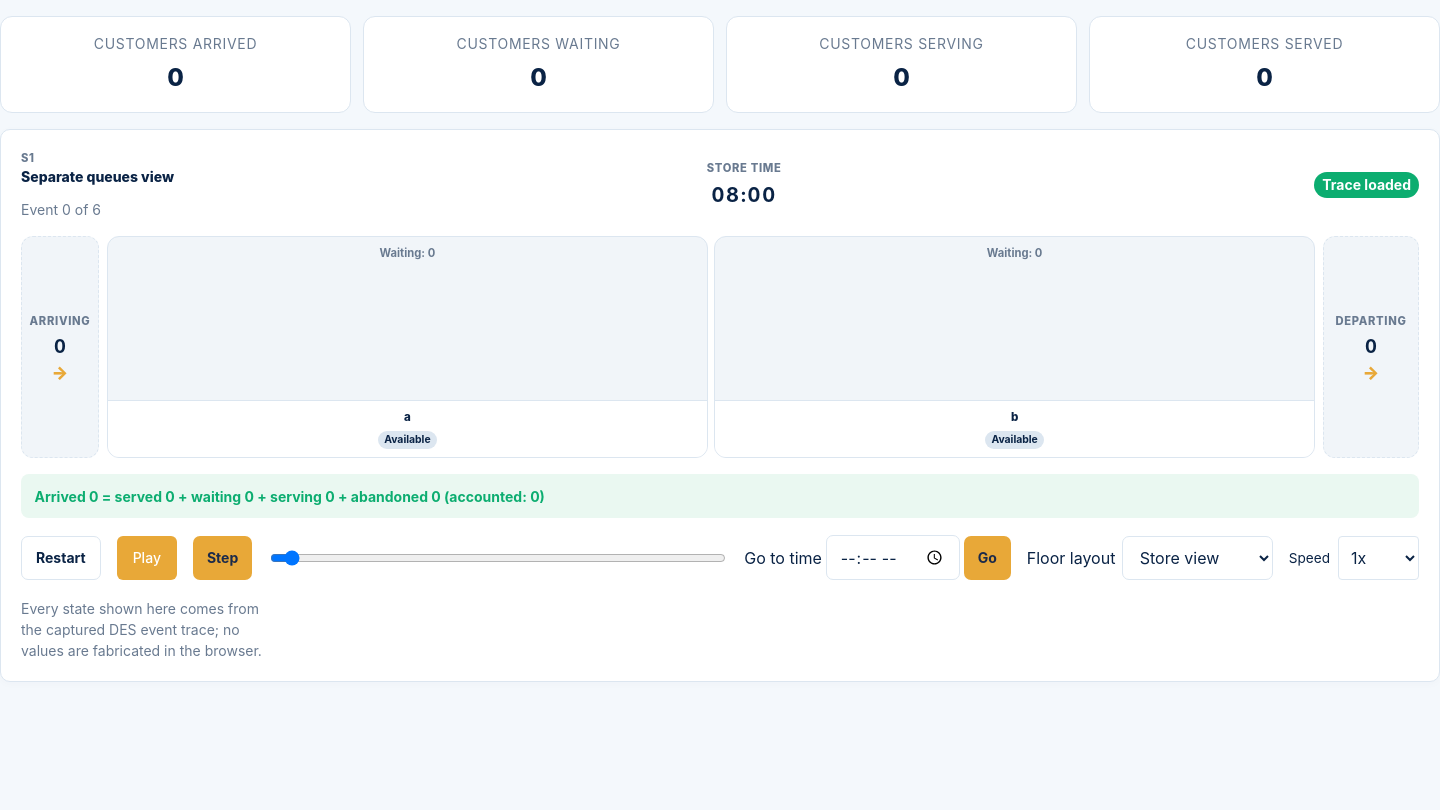
Test: separate-lines replay states › shows Finishing customers before break, On break and Available at the run's event times
Step 1. Type "08:33" into the time field labelled "Go to time" → (893, 558), box [826,535,960,580]
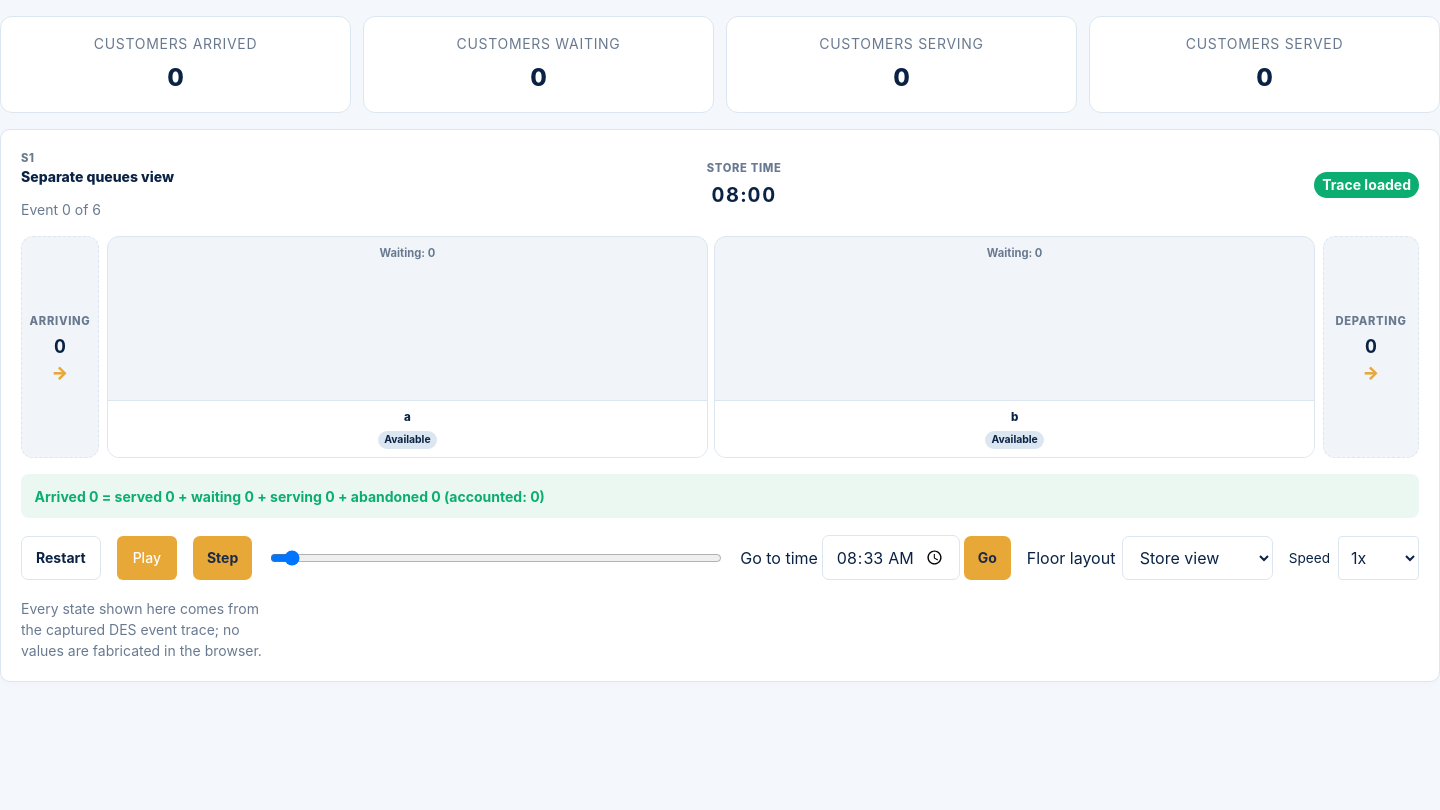
Step 2. Click the button "Go" → (987, 558), box [964,536,1011,580]
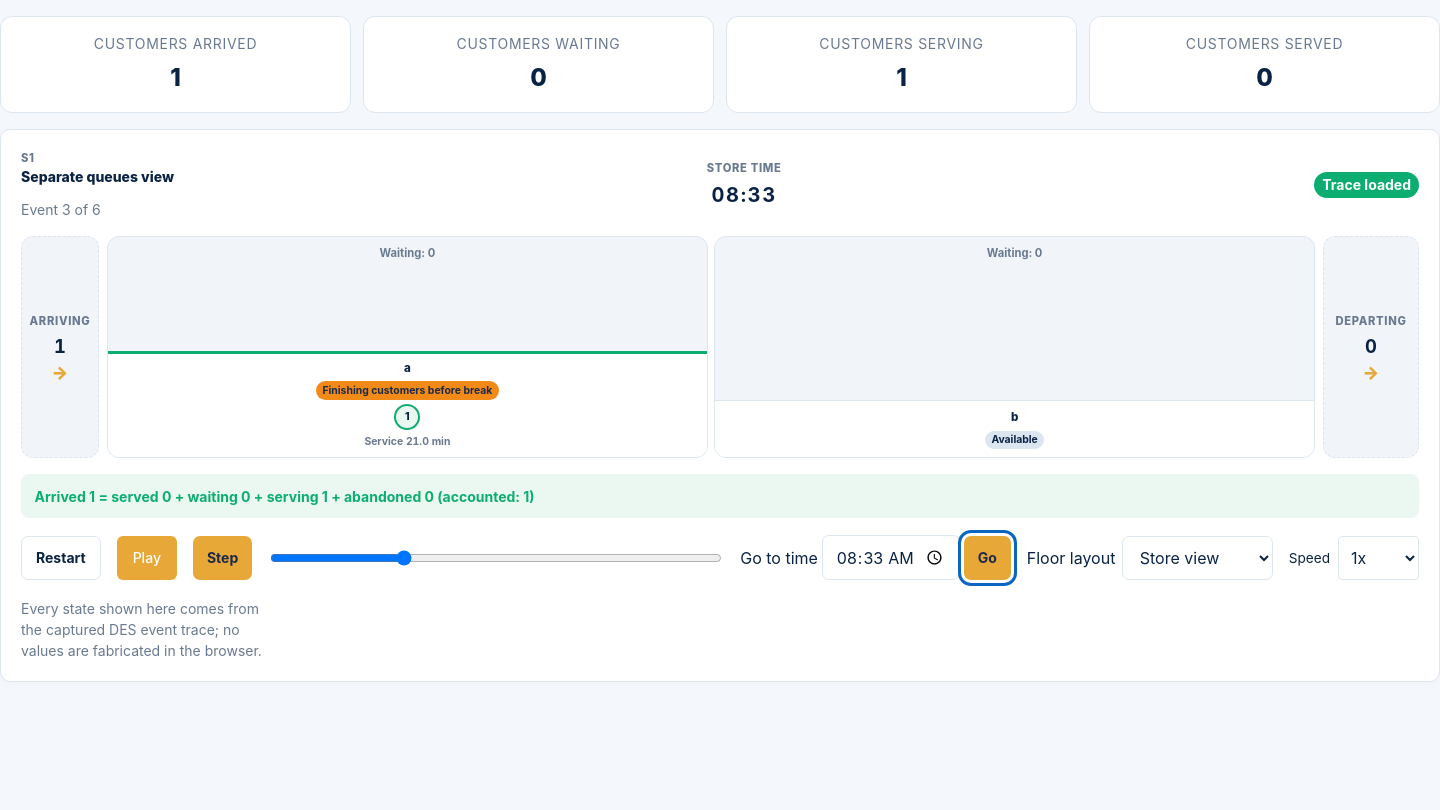
Expected: the text with test id "replay-clock" reads "08:33", [712,183,777,207]
Expected: the text with test id "state-a" reads "Finishing customers before break", [322,384,492,397]
Step 3. Replace the text in the time field labelled "Go to time" with "08:40" → (891, 558), box [822,535,960,580]
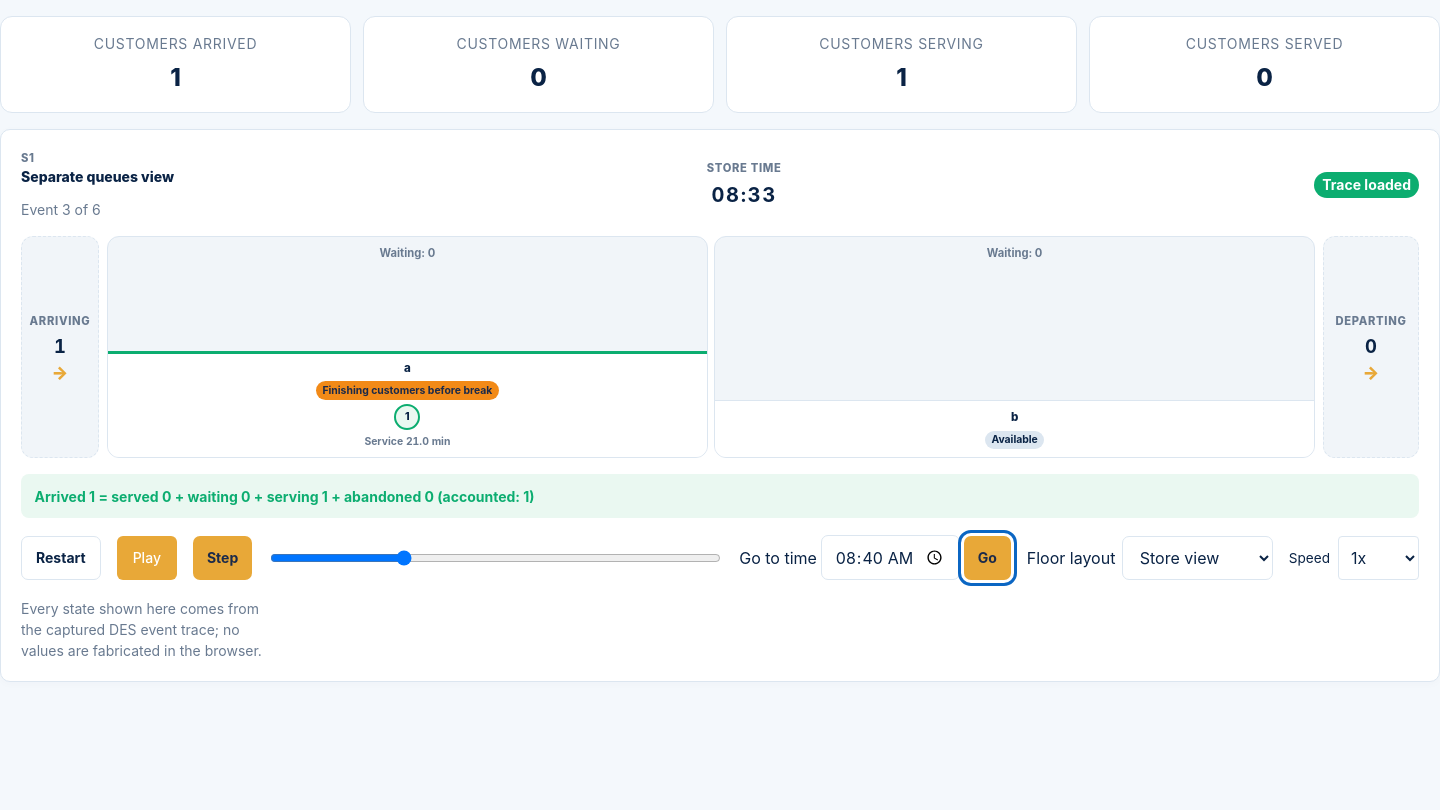
Step 4. Click the button "Go" → (987, 558), box [964,536,1011,580]
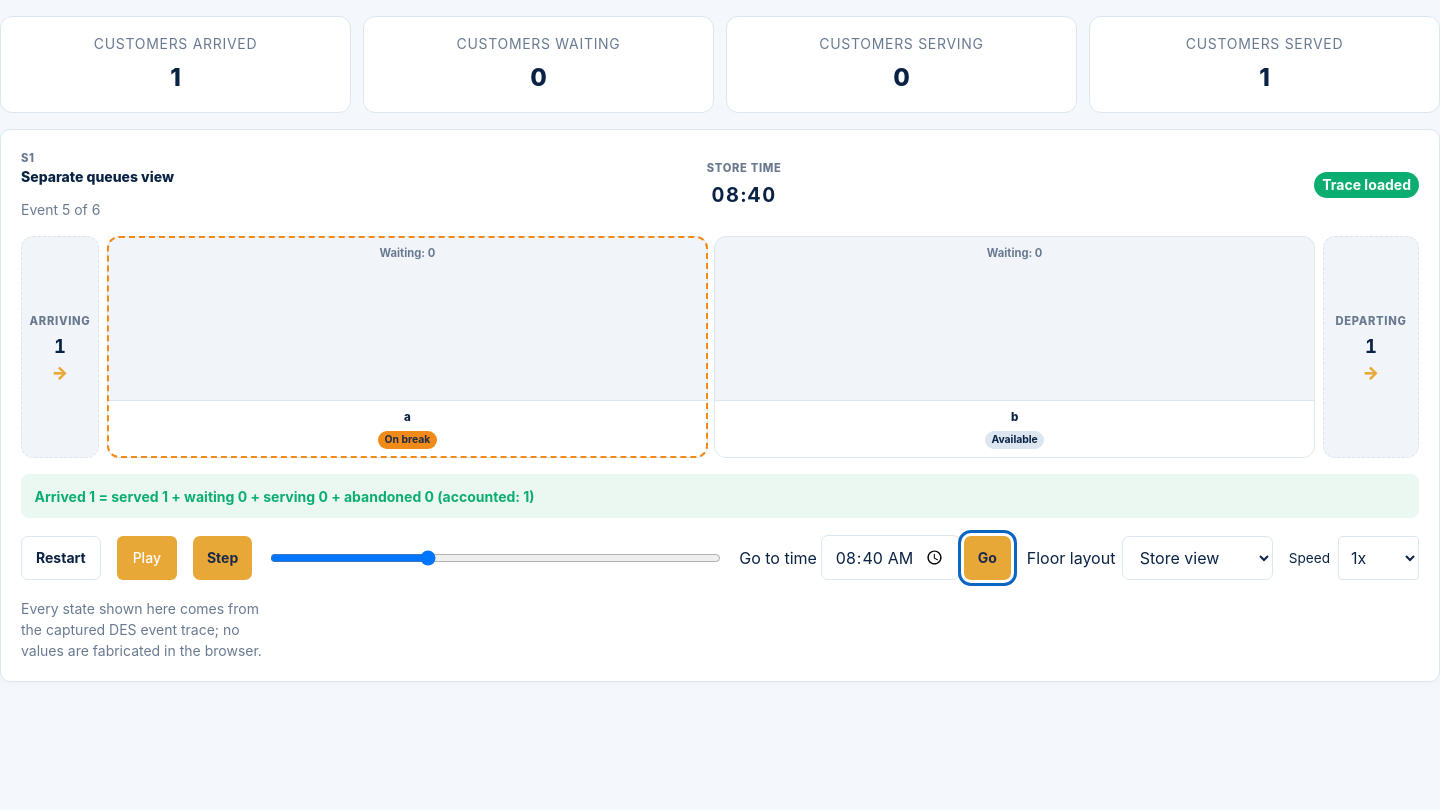
Expected: the text with test id "replay-clock" reads "08:40", [712,183,777,207]
Expected: the text with test id "state-a" reads "On break", [384,433,430,446]
Step 5. Replace the text in the time field labelled "Go to time" with "09:10" → (890, 558), box [821,535,960,580]
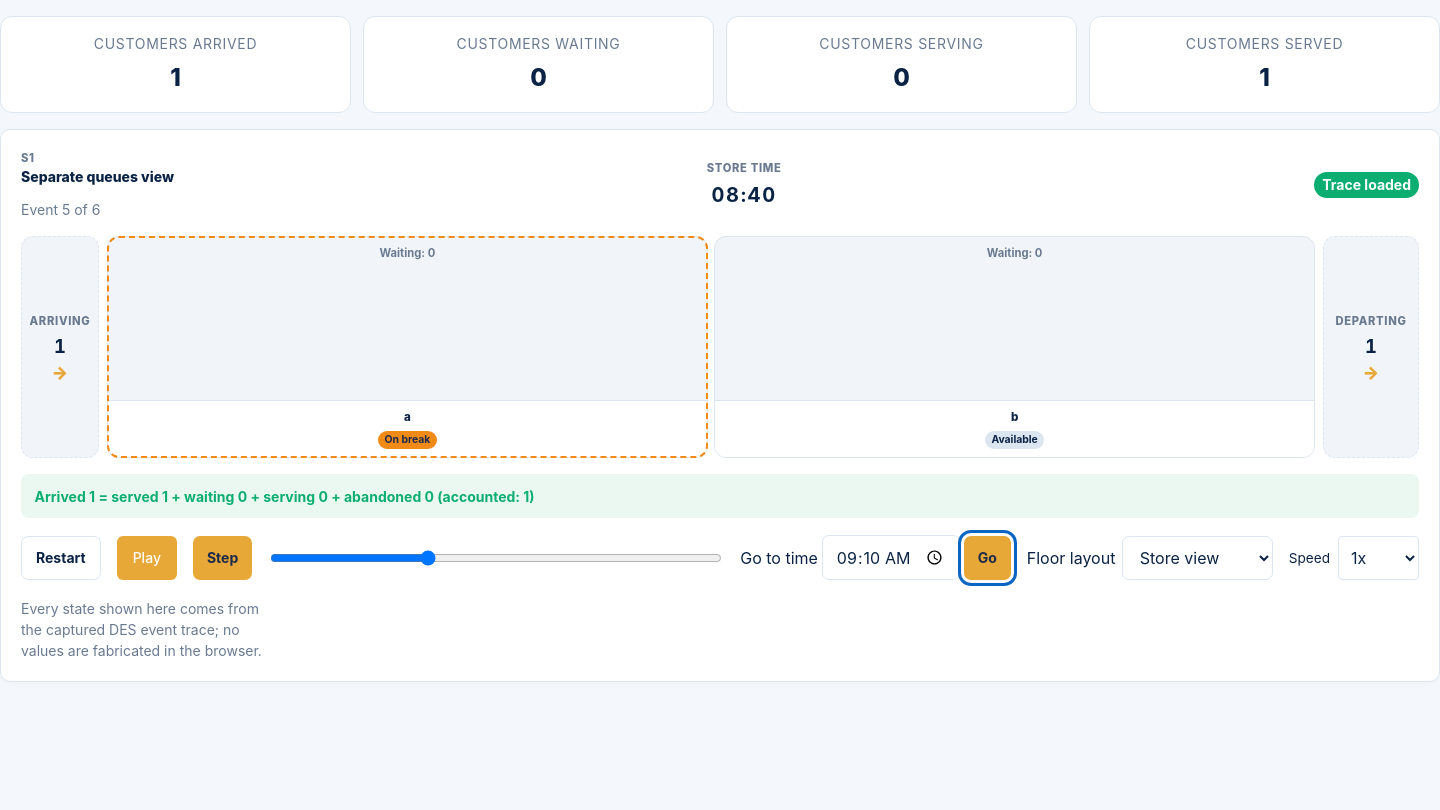
Step 6. Click the button "Go" → (987, 558), box [964,536,1011,580]
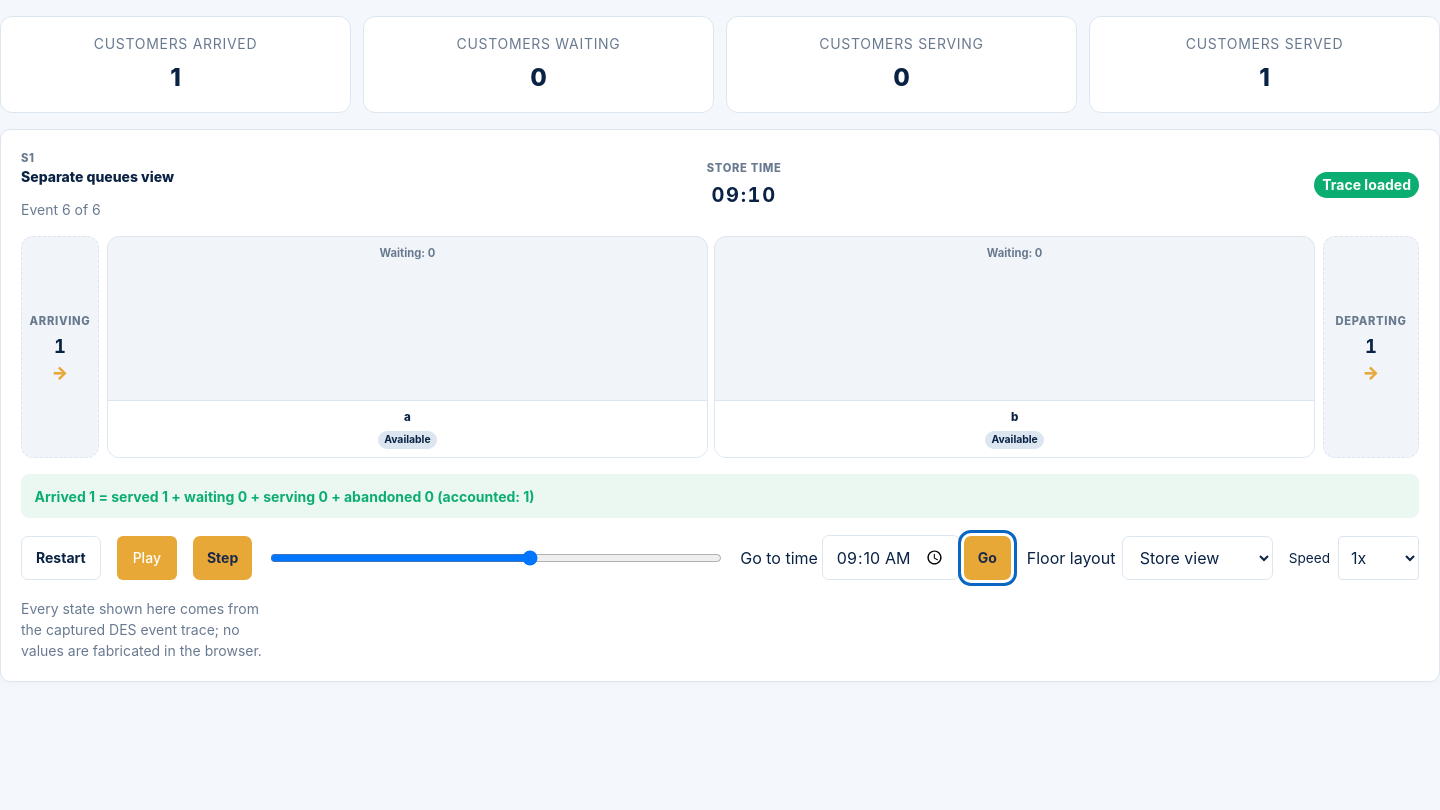
Expected: the text with test id "state-b" reads "Available", [991,433,1038,446]
Expected: the text with test id "replay-clock" reads "09:10", [712,183,777,207]
Expected: the text with test id "state-a" reads "Available", [384,433,431,446]
